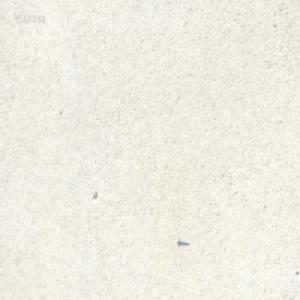Nail: (177, 236, 189, 245)
